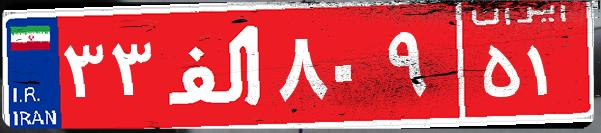0: (330, 28, 385, 110)
1: (525, 38, 570, 115)
3: (57, 26, 110, 107), (110, 28, 158, 105)
5: (475, 38, 525, 113)
8: (273, 28, 330, 110)
9: (385, 28, 445, 110)
الف: (158, 15, 273, 115)
